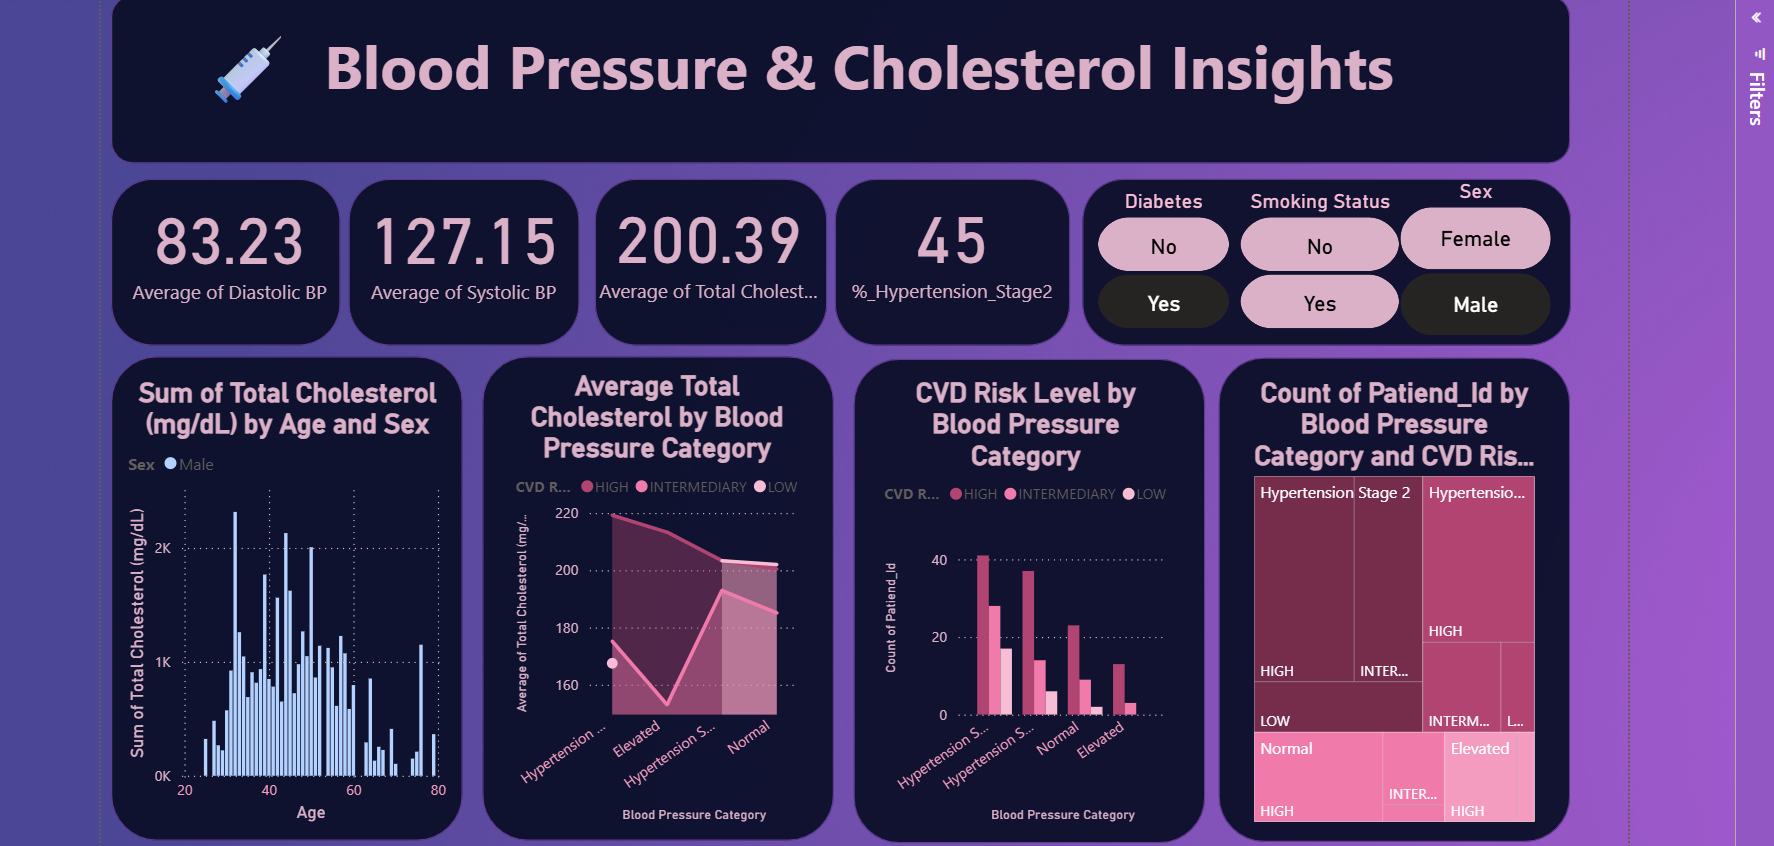

Layout of this report page (visuals, bound fields, positions):
{"tool":"powerbi","page":{"name":"Page Blood Pressure & Cholesterol Overview","canvas":[1280,720],"ordinal":2},"visuals":[{"type":"shape","box":[822.5,153.8,410,140],"z":0},{"type":"shape","box":[8.8,153.8,192.5,140],"z":1000},{"type":"shape","box":[207.5,153.8,193.8,140],"z":2000},{"type":"shape","box":[413.8,153.8,195,140],"z":3000},{"type":"shape","box":[615,153.8,197.5,140],"z":4000},{"type":"shape","box":[937.5,303.8,295,406.2],"z":5000},{"type":"shape","box":[320,302.5,295,406.2],"z":6000},{"type":"shape","box":[631.2,305,295,406.2],"z":7000},{"type":"shape","box":[8.8,302.5,295,406.2],"z":8000},{"type":"shape","box":[8.8,0,1223.8,141.2],"z":9000},{"type":"shape","box":[0,0,1271.7,116.9],"z":10000},{"type":"treemap","fields":{"Group":["CVD Dataset.Blood Pressure Category"],"Details":["CVD Dataset.CVD Risk Level"],"Values":["CountNonNull(CVD Dataset.Patiend_Id)"]},"box":[962.5,320,245,378.8],"z":11000},{"type":"clusteredColumnChart","title":"CVD Risk Level by Blood Pressure Category","fields":{"Series":["CVD Dataset.CVD Risk Level"],"Y":["CountNonNull(CVD Dataset.Patiend_Id)"],"Category":["CVD Dataset.Blood Pressure Category"]},"box":[652.5,320,247.5,378.8],"z":12000},{"type":"lineChart","title":"Average Total Cholesterol by Blood Pressure Category","fields":{"Category":["CVD Dataset.Blood Pressure Category"],"Y":["Avg(CVD Dataset.Total Cholesterol (mg/dL))"],"Series":["CVD Dataset.CVD Risk Level"]},"box":[342.5,313.8,247.5,385],"z":13000},{"type":"clusteredColumnChart","fields":{"Series":["CVD Dataset.Sex"],"Category":["CVD Dataset.Age"],"Y":["Sum(CVD Dataset.Total Cholesterol (mg/dL))"]},"box":[17.5,320,277.5,378.8],"z":14000},{"type":"advancedSlicerVisual","fields":{"Values":["CVD Dataset.Sex"]},"box":[1085,153.8,136.2,137.5],"z":15000},{"type":"advancedSlicerVisual","fields":{"Values":["CVD Dataset.Smoking Status"]},"box":[951.2,162.5,143.8,122.5],"z":16000},{"type":"advancedSlicerVisual","title":"Diabetes","fields":{"Values":["CVD Dataset.Diabetes Status"]},"box":[831.2,162.5,120,123.8],"z":17000},{"type":"card","title":"hfdhiebfiwef","fields":{"Values":["Avg(CVD Dataset.Diastolic BP)"]},"box":[0,136.2,216.2,148.8],"z":18000},{"type":"card","fields":{"Values":["Avg(CVD Dataset.Systolic BP)"]},"box":[195,136.2,218.8,148.8],"z":19000},{"type":"card","fields":{"Values":["Avg(CVD Dataset.Total Cholesterol (mg/dL))"]},"box":[411.2,135,197.5,148.8],"z":20000},{"type":"card","fields":{"Values":["CVD Dataset.%_Hypertension_Stage2"]},"box":[615,135,197.5,148.8],"z":21000},{"type":"actionButton","box":[72.1,0,102,121.9],"z":22000}]}

Visuals, with their boxes on the page's 1280x720 design canvas (x1, y1, x2, y2). These are canvas units, not pixel positions in the 1774x846 screenshot, which may show the page scaled, cropped or inside an application window:
shape: (left=822, top=154, right=1232, bottom=294)
shape: (left=9, top=154, right=201, bottom=294)
shape: (left=208, top=154, right=401, bottom=294)
shape: (left=414, top=154, right=609, bottom=294)
shape: (left=615, top=154, right=812, bottom=294)
shape: (left=938, top=304, right=1232, bottom=710)
shape: (left=320, top=302, right=615, bottom=709)
shape: (left=631, top=305, right=926, bottom=711)
shape: (left=9, top=302, right=304, bottom=709)
shape: (left=9, top=0, right=1233, bottom=141)
shape: (left=0, top=0, right=1272, bottom=117)
treemap - CVD Dataset.Blood Pressure Category x CVD Dataset.CVD Risk Level: (left=962, top=320, right=1208, bottom=699)
"CVD Risk Level by Blood Pressure Category" clusteredColumnChart: (left=652, top=320, right=900, bottom=699)
"Average Total Cholesterol by Blood Pressure Category" lineChart: (left=342, top=314, right=590, bottom=699)
clusteredColumnChart - CVD Dataset.Sex x CVD Dataset.Age: (left=18, top=320, right=295, bottom=699)
advancedSlicerVisual - CVD Dataset.Sex: (left=1085, top=154, right=1221, bottom=291)
advancedSlicerVisual - CVD Dataset.Smoking Status: (left=951, top=162, right=1095, bottom=285)
"Diabetes" advancedSlicerVisual: (left=831, top=162, right=951, bottom=286)
"hfdhiebfiwef" card: (left=0, top=136, right=216, bottom=285)
card - Avg(CVD Dataset.Systolic BP): (left=195, top=136, right=414, bottom=285)
card - Avg(CVD Dataset.Total Cholesterol (mg/dL)): (left=411, top=135, right=609, bottom=284)
card - CVD Dataset.%_Hypertension_Stage2: (left=615, top=135, right=812, bottom=284)
actionButton: (left=72, top=0, right=174, bottom=122)
